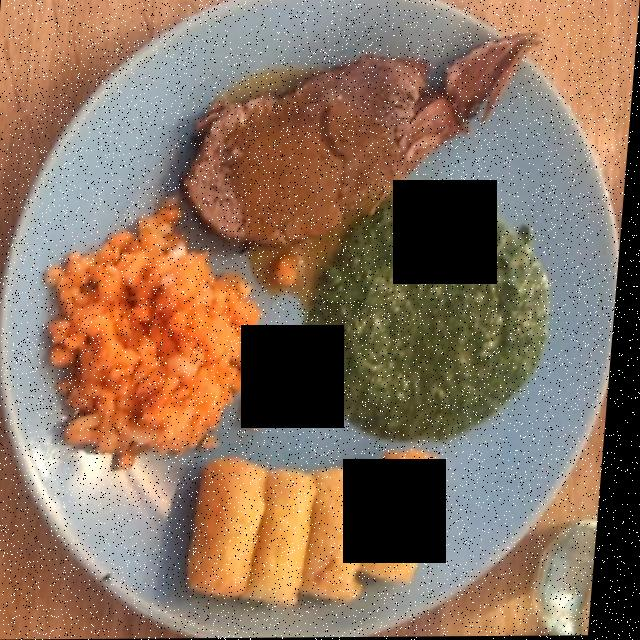beef-roast: (180, 36, 538, 251)
leaf-spinach: (308, 177, 559, 439)
mixed-vegetables: (54, 188, 278, 451)
sauce-roast: (232, 51, 402, 295)
